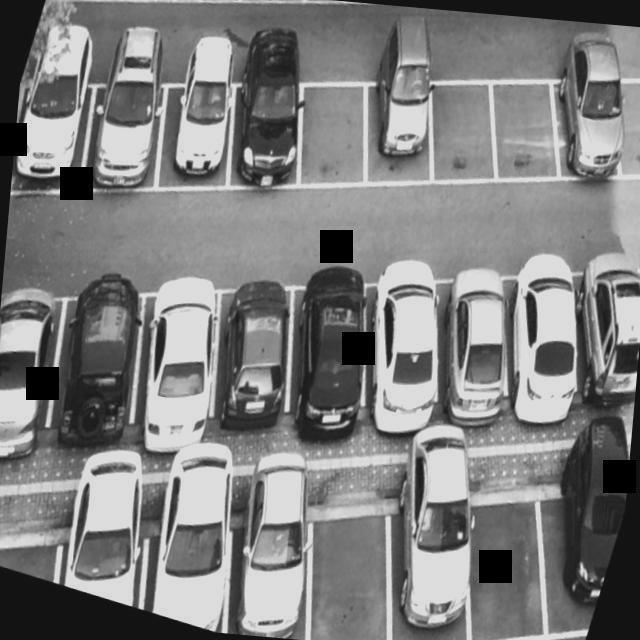space-empty: (434, 459, 572, 640), (275, 485, 423, 640), (468, 49, 587, 200), (281, 52, 398, 204), (405, 50, 522, 202), (597, 57, 640, 190)
space-occupied: (320, 229, 469, 457), (336, 458, 517, 640), (172, 253, 316, 471), (464, 229, 602, 452), (101, 255, 240, 474), (34, 251, 166, 474), (255, 249, 390, 460), (396, 243, 538, 438), (195, 479, 344, 640), (61, 34, 195, 210), (516, 449, 629, 640), (9, 25, 120, 217), (130, 483, 260, 635), (341, 40, 462, 197), (541, 226, 640, 417), (529, 36, 640, 201), (209, 49, 326, 201), (143, 50, 251, 200), (0, 273, 78, 479), (43, 493, 176, 612), (606, 227, 640, 428)
